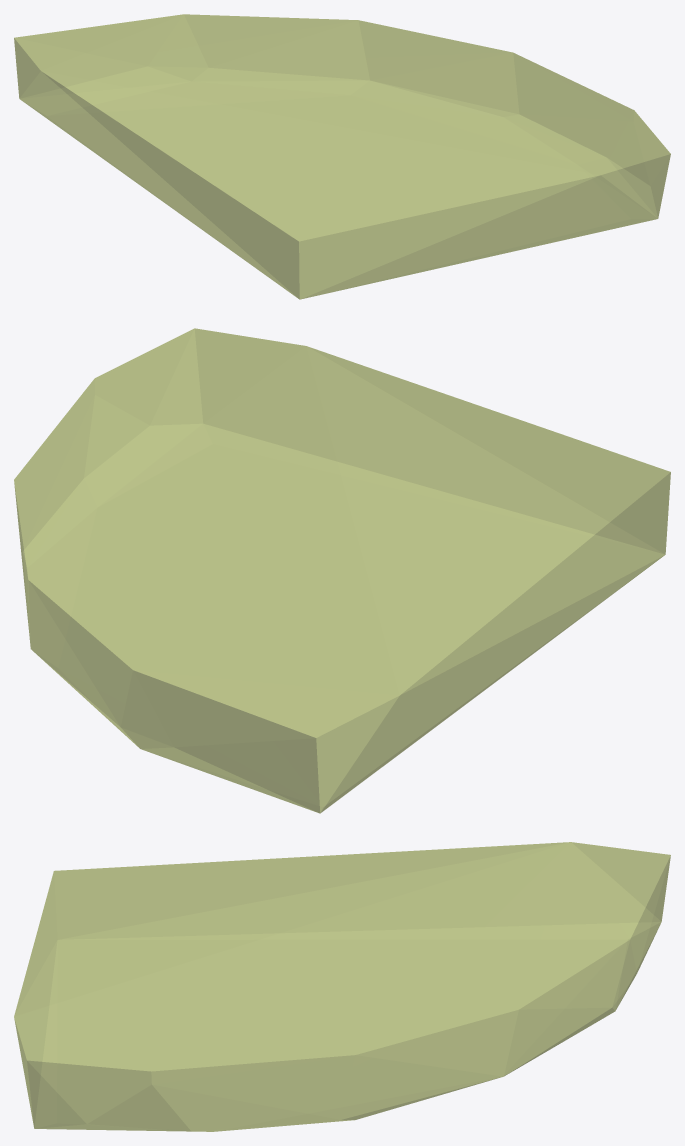
The picture shows the model from 3 angles, top to bottom: view 1: azimuth 30°, elevation 25°; view 2: azimuth 150°, elevation 25°; view 3: azimuth 270°, elevation 25°; orthographic projection. The views are drawn at different scales.
Parts seen in each view (by area): view 1: Shape_IndexedFaceSet.002_Shape_IndexedFaceSet.8281; view 2: Shape_IndexedFaceSet.002_Shape_IndexedFaceSet.8281; view 3: Shape_IndexedFaceSet.002_Shape_IndexedFaceSet.8281.
Part boxes in pixels (x1=…): Shape_IndexedFaceSet.002_Shape_IndexedFaceSet.8281: x1=14, y1=14, x2=670, y2=299; Shape_IndexedFaceSet.002_Shape_IndexedFaceSet.8281: x1=14, y1=328, x2=670, y2=813; Shape_IndexedFaceSet.002_Shape_IndexedFaceSet.8281: x1=14, y1=842, x2=670, y2=1131.
Size of the model in its own units: 0.4491 by 0.0746 by 0.5522.
